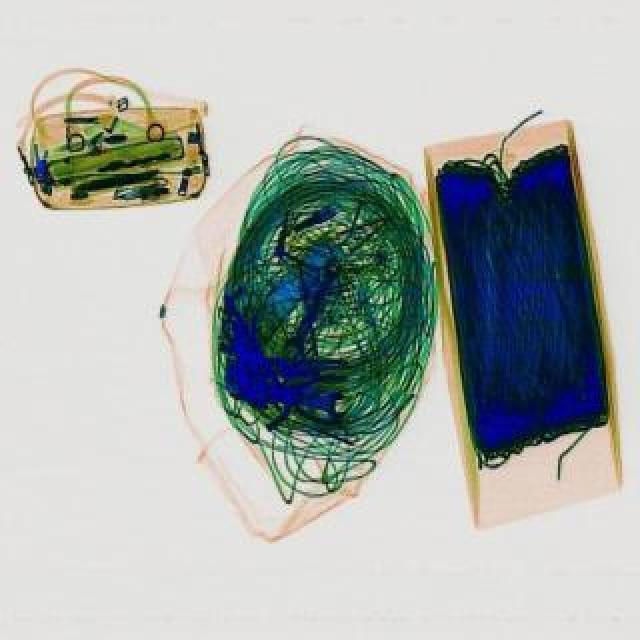scissors: (278, 258, 350, 362), (282, 386, 348, 422)
